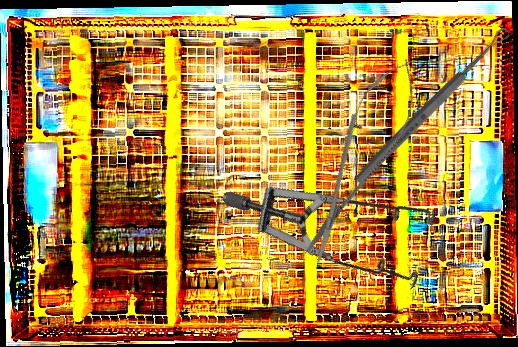Micro Scissor: (285, 47, 434, 274)
Speculum: (220, 95, 465, 343)
Surgical Spoon: (351, 25, 513, 187)
